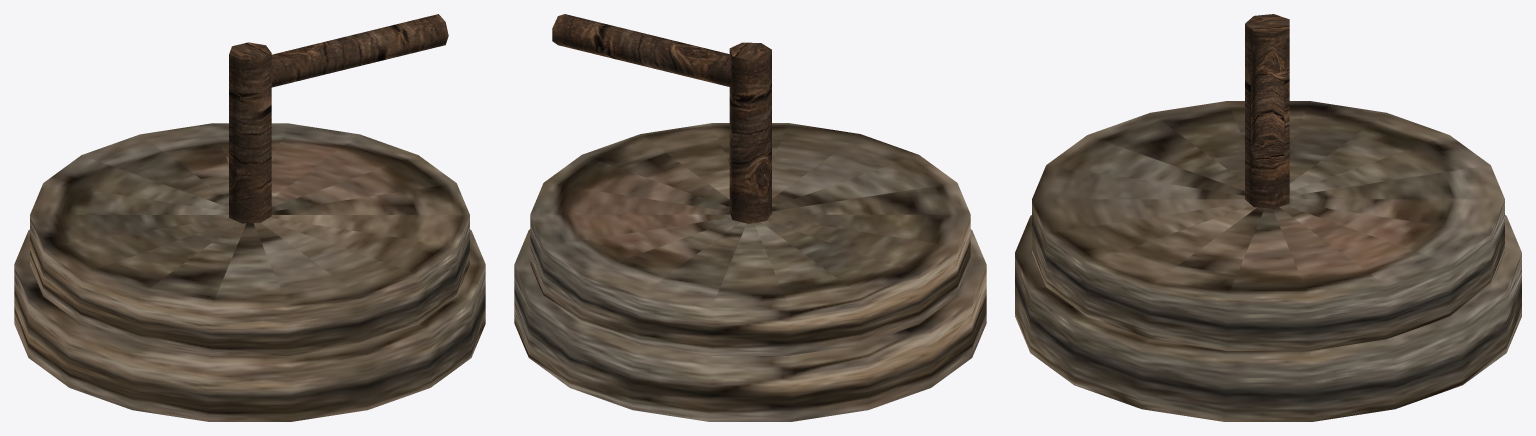
File: millstone.glb
3 renders of one model, left to right at view 1: azimuth 30°, elevation 25°; view 2: azimuth 150°, elevation 25°; view 3: azimuth 270°, elevation 25°, orthographic. The views are drawn at different scales.
Parts seen in each view (by area): view 1: part_0, part_1; view 2: part_0, part_1; view 3: part_0, part_1.
Boxes of the visible parts, bbox=[...] form: part_0: bbox=[14, 123, 485, 421]; part_1: bbox=[229, 14, 448, 223]; part_0: bbox=[514, 123, 986, 421]; part_1: bbox=[552, 14, 771, 223]; part_0: bbox=[1015, 101, 1521, 421]; part_1: bbox=[1245, 14, 1289, 208].
Size of the model in its own units: 0.8499 by 0.55 by 0.863.
Materials: 2 (2 with a texture image).
